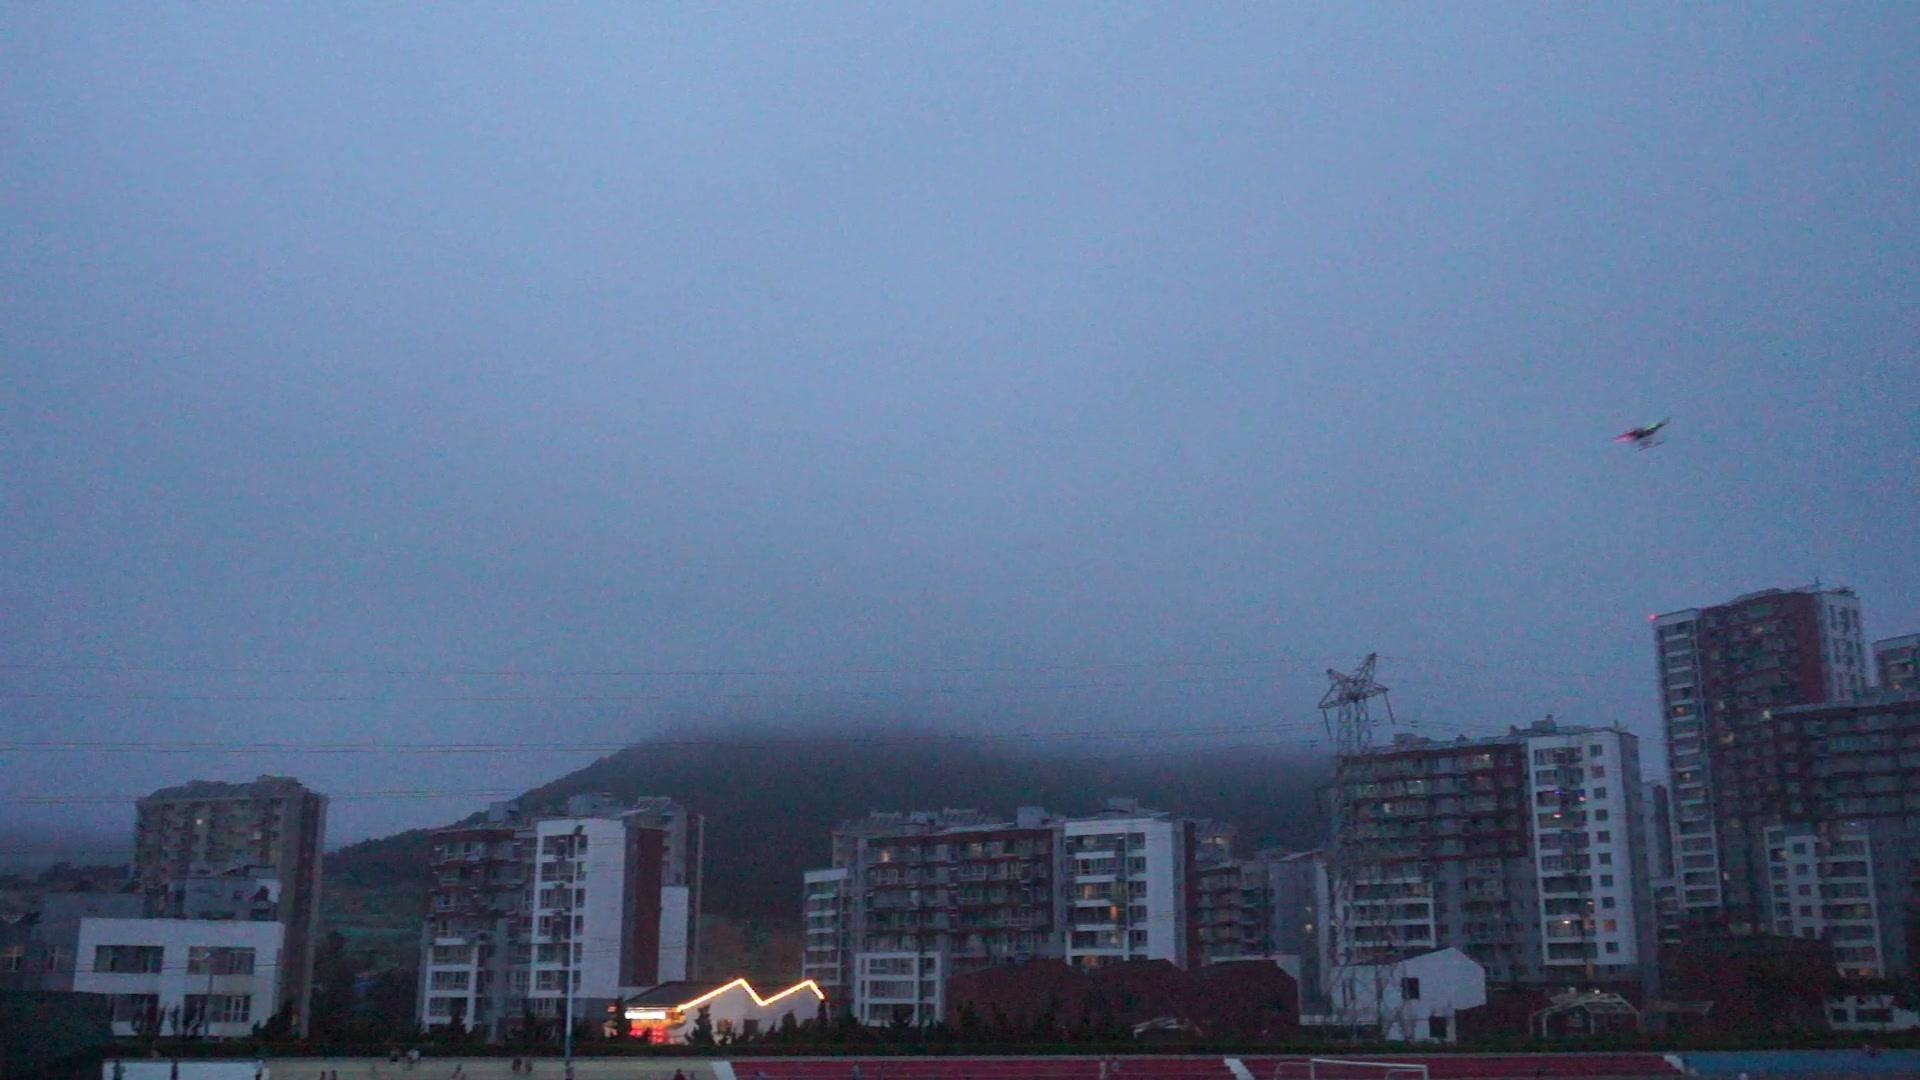UAV: (1614, 417, 1673, 452)
